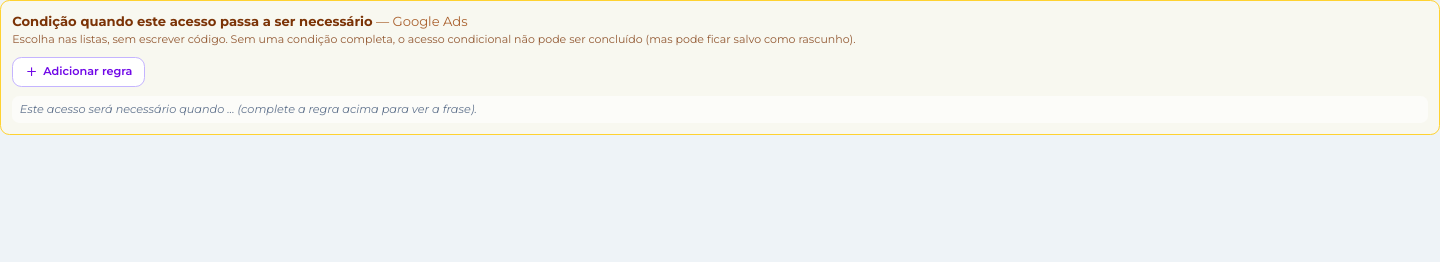
Construtor 'Condição quando este acesso passa a ser necessário' › remover regra
Click the button with test id "add-condition-rule": [79, 72] box x1=12 y1=57 x2=145 y2=87
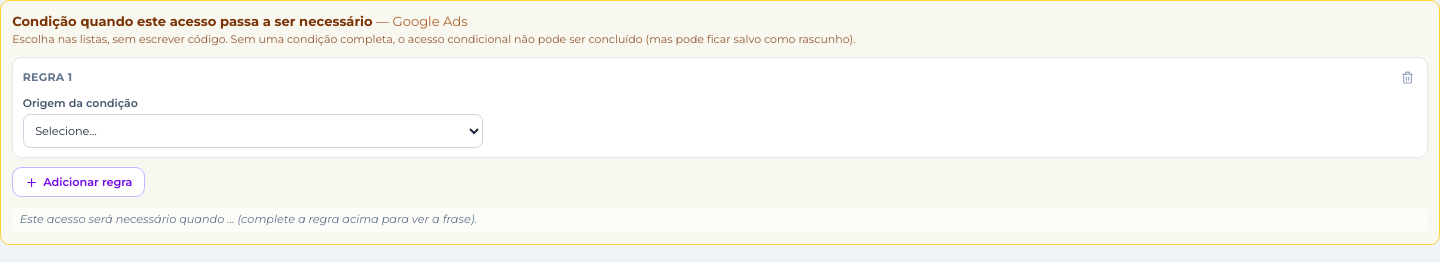
Click the button named "Remover regra 1": [1407, 78] box x1=1397 y1=67 x2=1417 y2=88
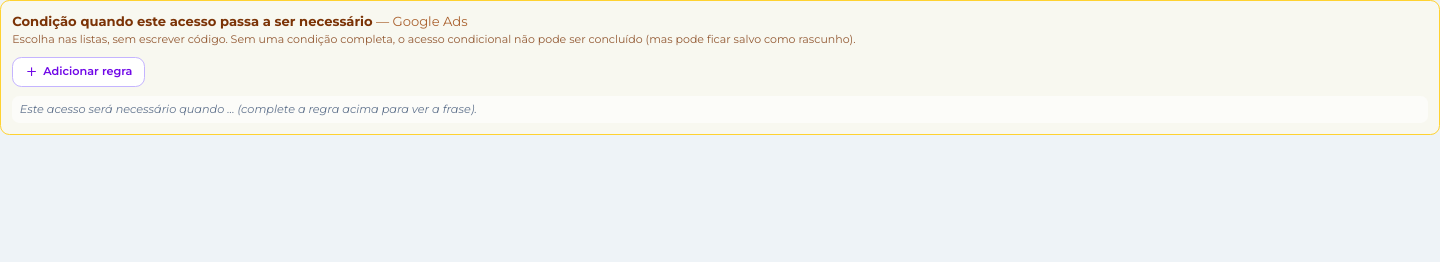
Check: no list items with test id "access-condition-rule" are shown
